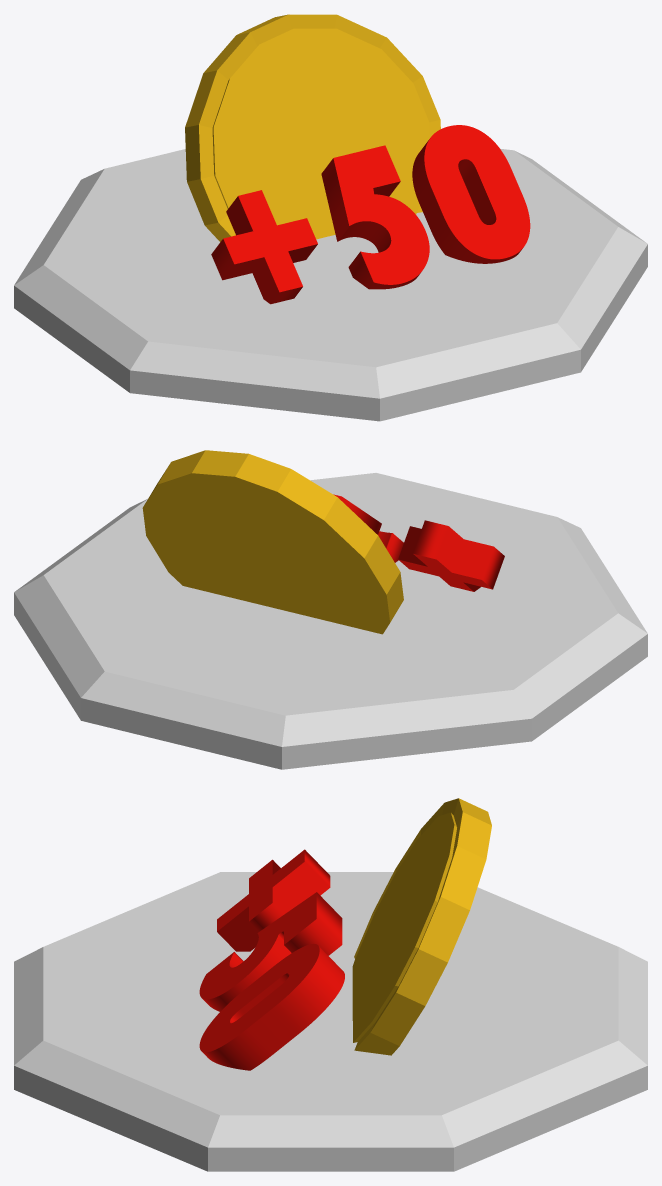
The model's file is MoneyPoints.fbx.
The picture shows the model from 3 angles, top to bottom: view 1: azimuth 30°, elevation 25°; view 2: azimuth 150°, elevation 25°; view 3: azimuth 270°, elevation 25°; orthographic projection. The views are drawn at different scales.
Parts seen in each view (by area): view 1: Cube, Cube.001, Text; view 2: Cube, Cube.001, Text; view 3: Cube, Text, Cube.001.
Part boxes in pixels (left/top/right/bottom): Cube: left=14, top=148, right=647, bottom=421; Cube.001: left=185, top=14, right=440, bottom=241; Text: left=211, top=125, right=530, bottom=304; Cube: left=14, top=473, right=647, bottom=769; Cube.001: left=142, top=450, right=403, bottom=634; Text: left=333, top=494, right=504, bottom=591; Cube: left=14, top=872, right=647, bottom=1171; Text: left=199, top=849, right=344, bottom=1070; Cube.001: left=352, top=798, right=491, bottom=1055.
Bounding box in the file's own units: 90.03 × 39.28 × 90.03.
